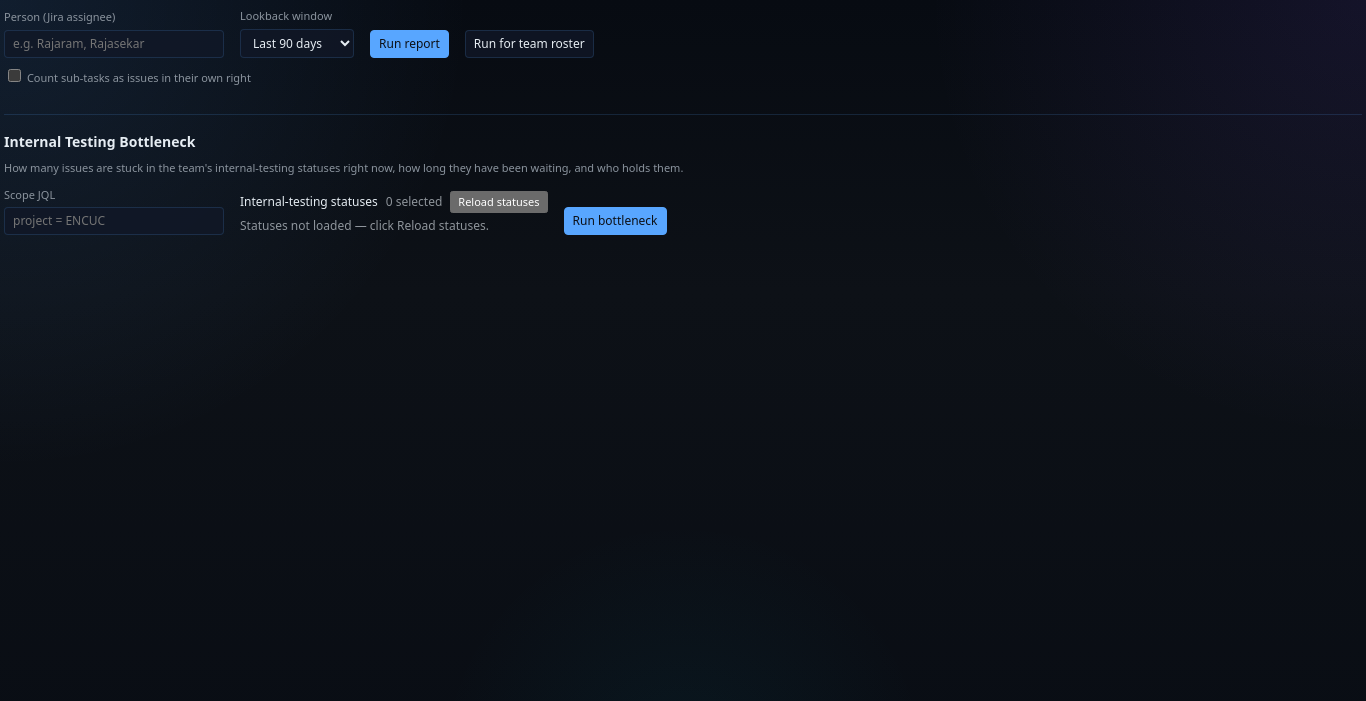
PersonalFlowTab › resolves the person to a username, then fetches/computes/renders cards and per-issue rows
Type "Jane Dev" into the field labelled "Person (Jira assignee)".
click(114, 44); type("Jane Dev")  # box [4, 30, 224, 58]
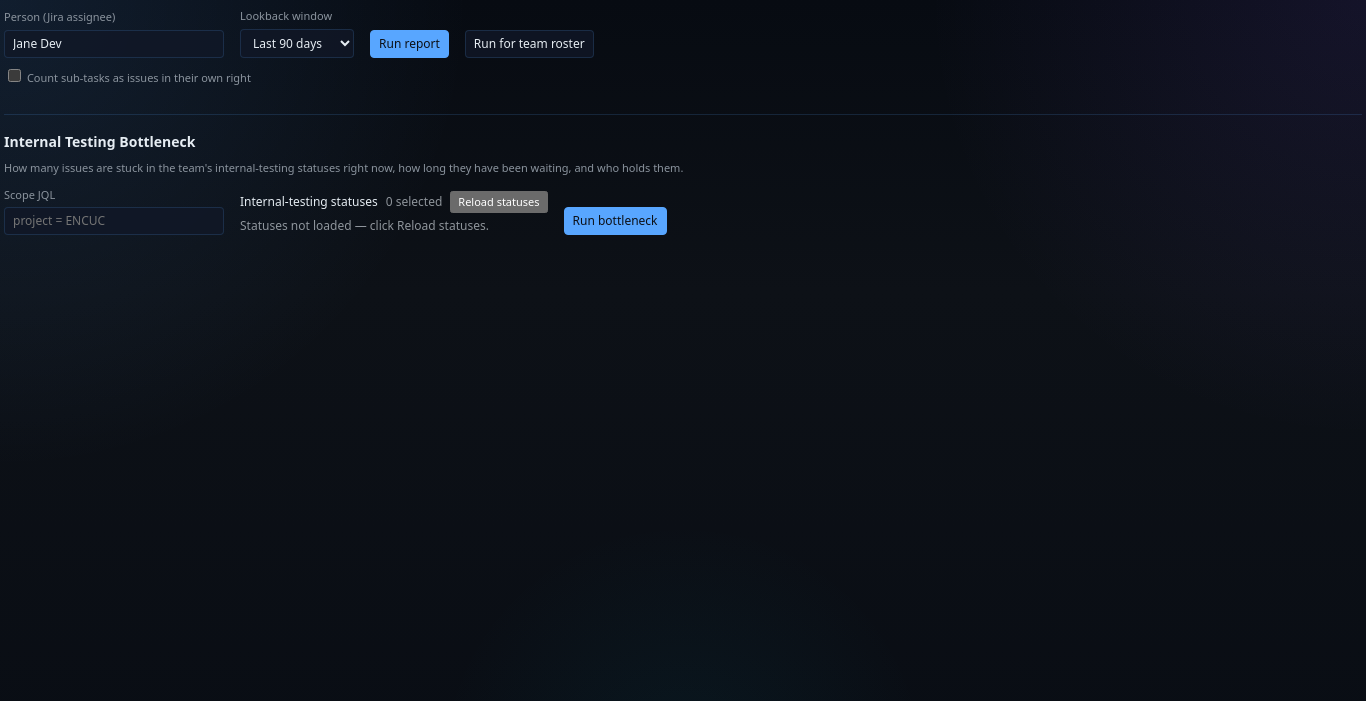
Select "Last 60 days" in the dropdown labelled "Lookback window" at (297, 43), box [240, 28, 354, 58]
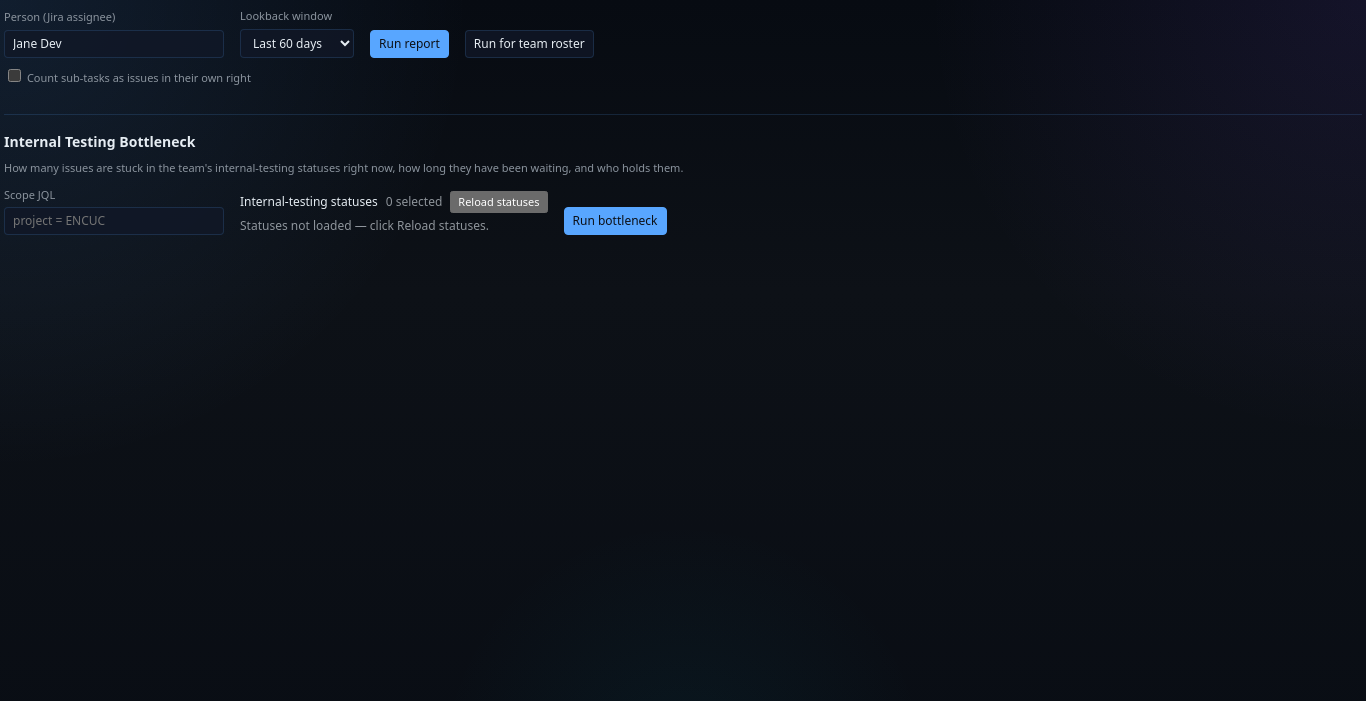
Click the button "Run report".
click(409, 44)  # box [370, 30, 449, 58]
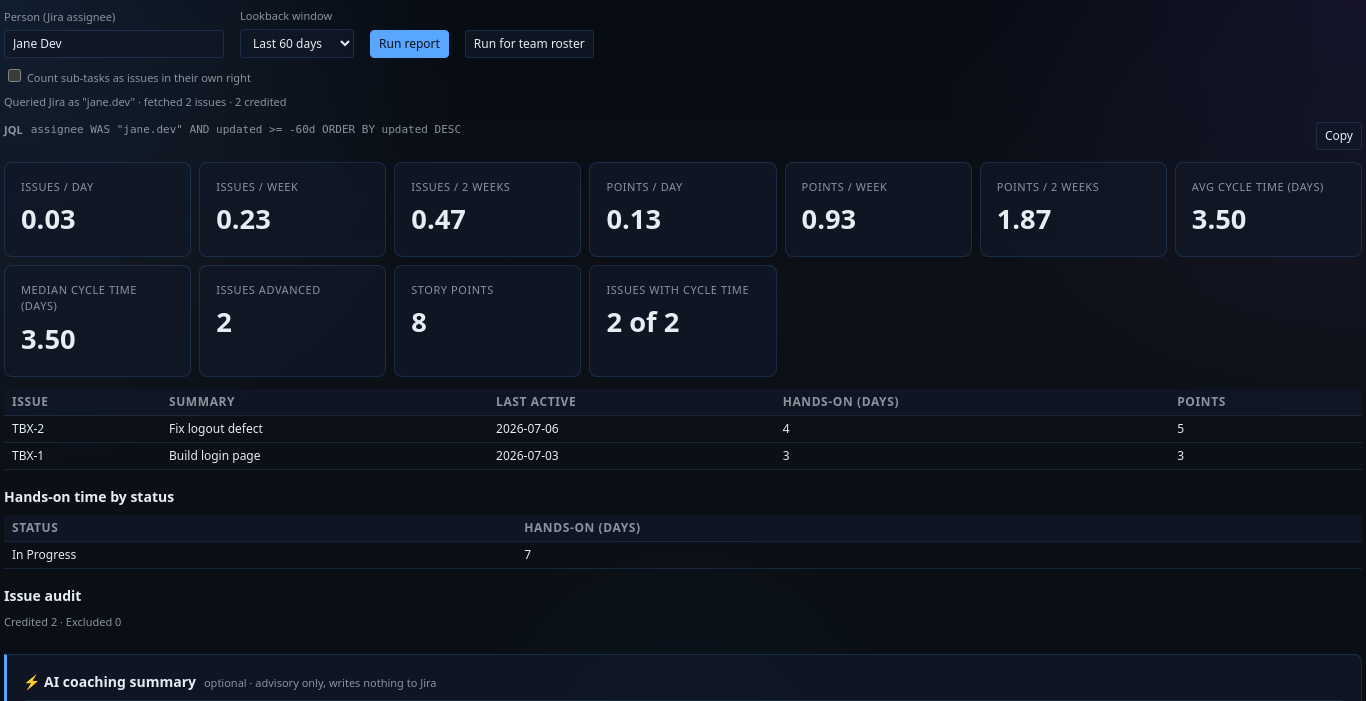
Now the text "TBX-1" is shown, box [4, 442, 161, 469]
Now the text "TBX-2" is shown, box [4, 415, 161, 442]
Now the text "Build login page" is shown, box [161, 442, 488, 469]
